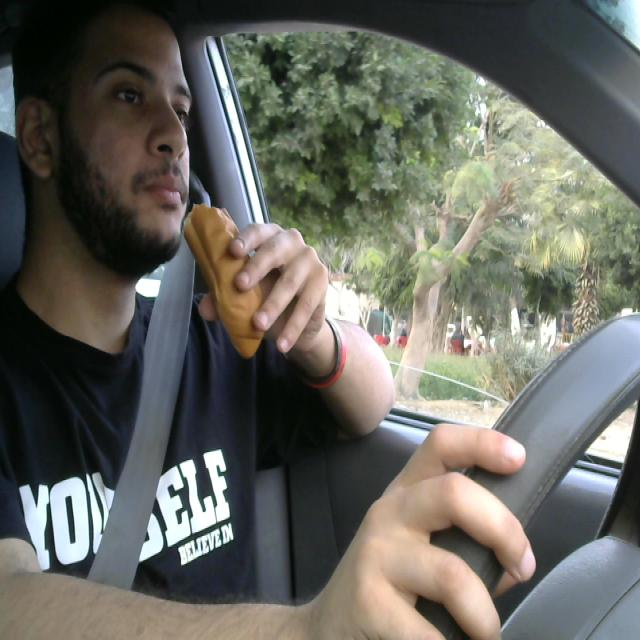eating: (179, 202, 271, 372)
